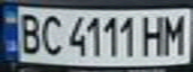1: (118, 12, 142, 57), (100, 12, 121, 57), (84, 12, 103, 57)
4: (63, 11, 87, 57)
B: (15, 9, 45, 55)
C: (36, 11, 66, 56)
H: (139, 11, 169, 57)
M: (157, 11, 190, 56)
